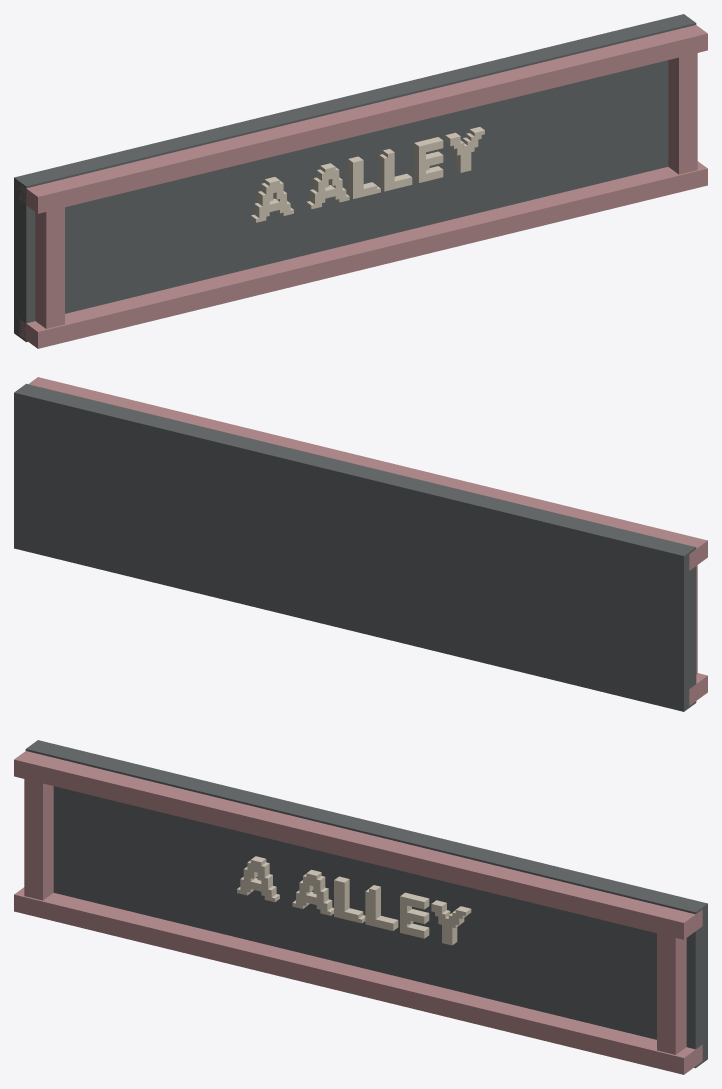
Rendered from a_alley.glb.
3 renders of one model, top to bottom at view 1: azimuth 30°, elevation 25°; view 2: azimuth 150°, elevation 25°; view 3: azimuth 330°, elevation 25°, orthographic.
Parts seen in each view (by area): view 1: piece1, piece2, piece3, piece4, piece5; view 2: piece1, piece2; view 3: piece1, piece2, piece3, piece5, piece4.
Part boxes in pixels (x1,y1,x2,y2): piece1: (14,14,696,342); piece2: (19,25,707,213); piece3: (19,161,707,348); piece4: (35,207,64,328); piece5: (668,53,697,174); piece1: (14,383,696,711); piece2: (28,377,707,570); piece1: (25,740,707,1068); piece2: (14,751,702,939); piece3: (14,887,702,1074); piece5: (657,933,686,1054); piece4: (24,779,53,900).
Size of the model in its own units: 5.4 by 1.2 by 0.335.
